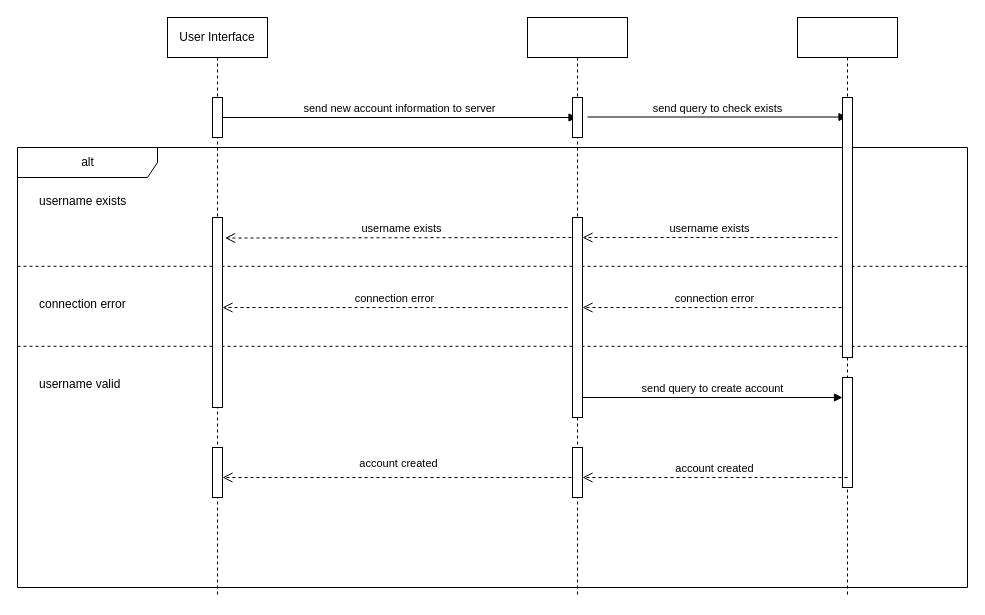
Some shapes in this 985 by 615 pixel diagram are drawn without their labels. The shapes that lost their labels are listed below. From the top down, each one's box as (x1, y1, x2, y2) in pixels, then its label:
(526, 16, 628, 598): Webserver
(796, 16, 898, 598): Database
